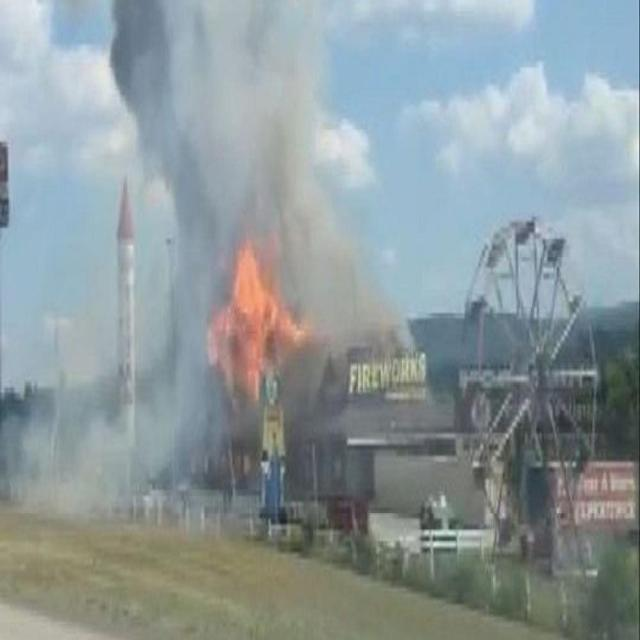Fire: (203, 241, 311, 384)
